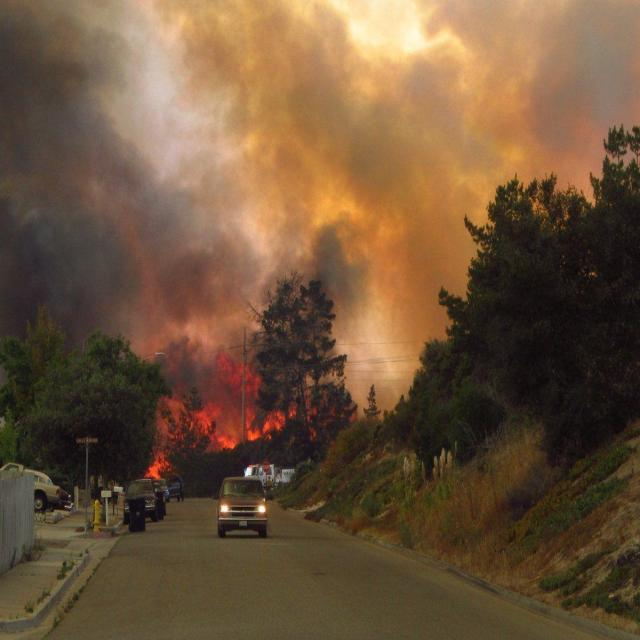Fire: (142, 348, 319, 481)
